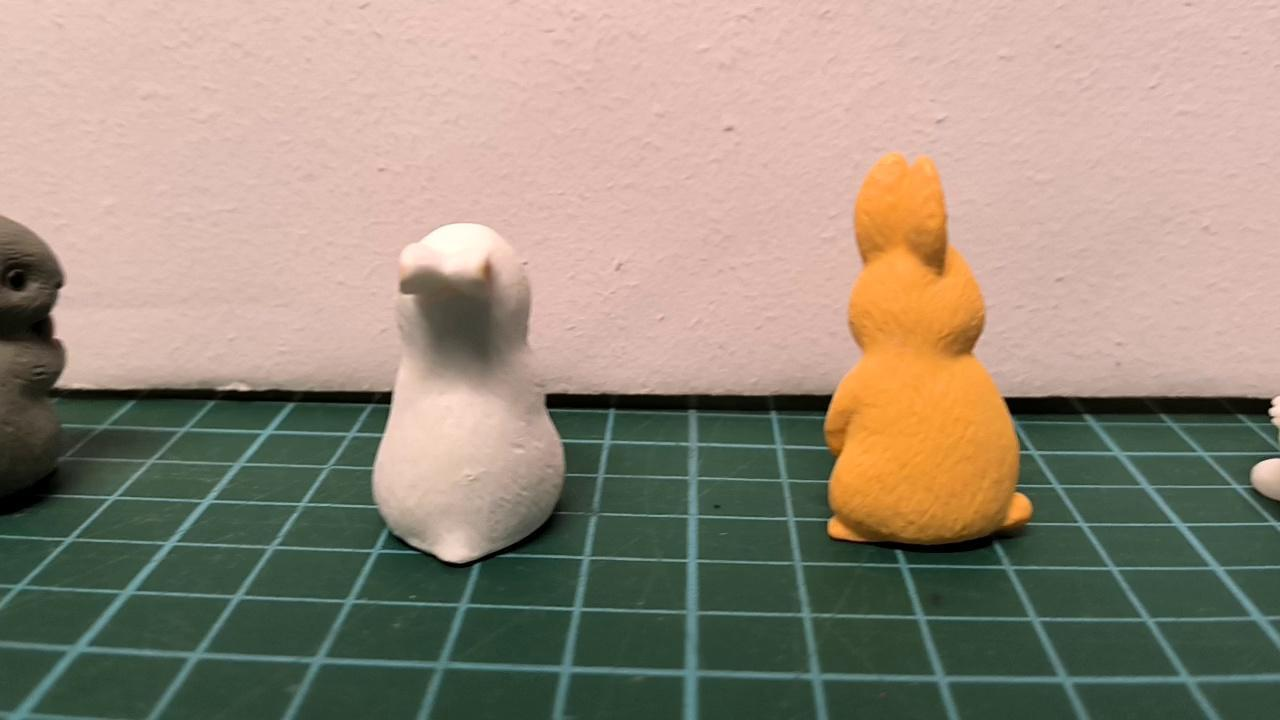pet: (821, 149, 1033, 549), (372, 222, 567, 568), (0, 216, 67, 516)
